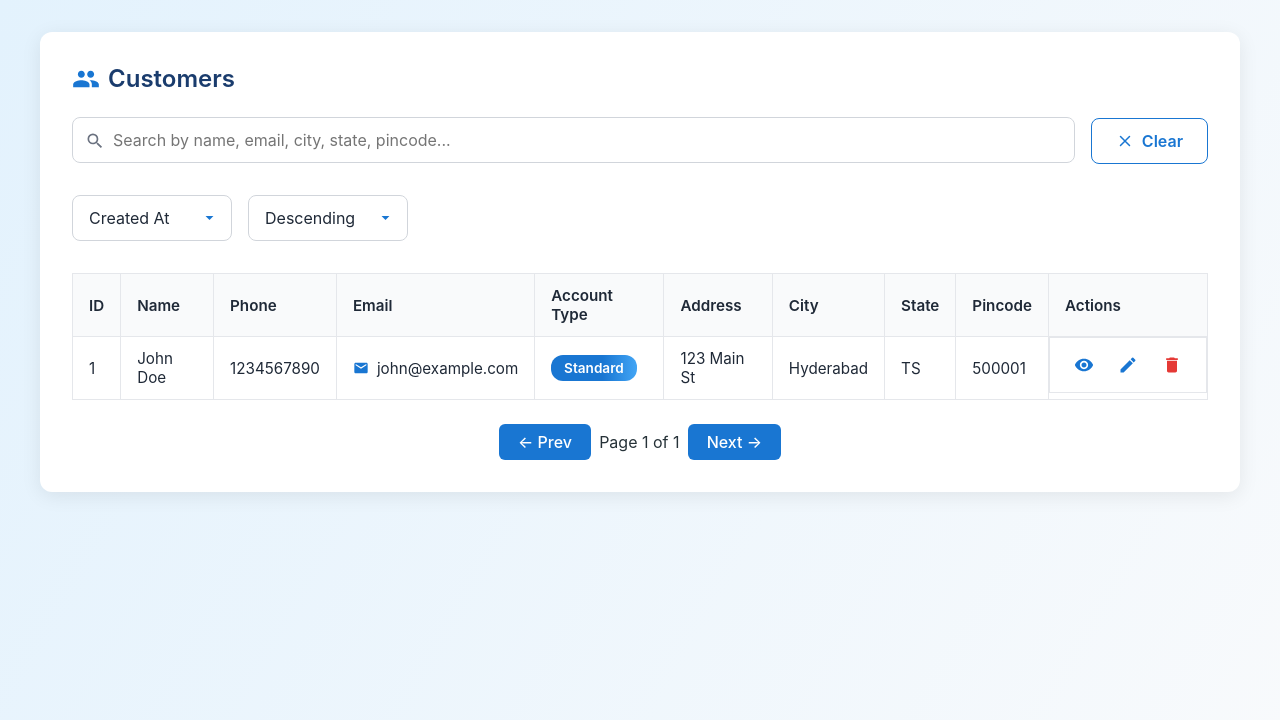
Test: CustomerList Component › shows delete modal and deletes customer successfully
Step 1. Click the button named "Delete customer 1" → point(1172, 365), box [1154, 350, 1190, 380]
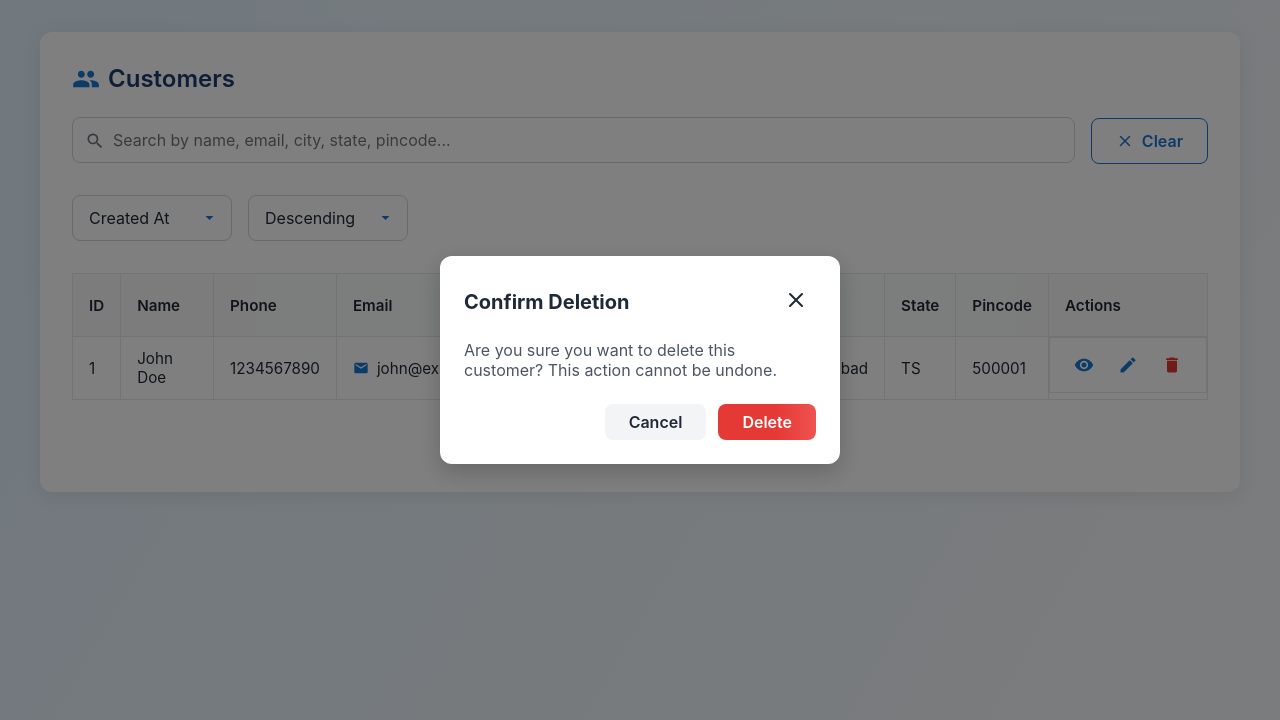
Result: the heading "Confirm Deletion" is shown at [464, 290, 630, 314]
Step 2. Click the button "Delete" → point(767, 422), box [718, 404, 816, 440]
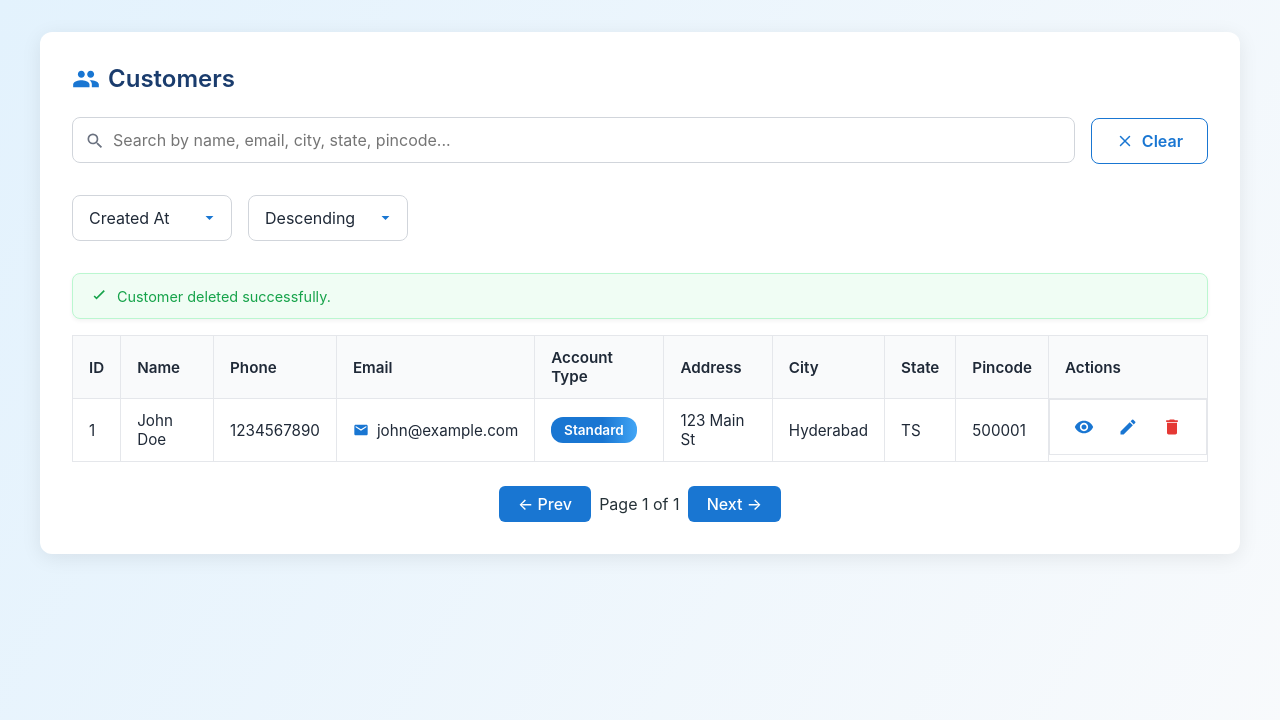
Result: the text "Customer deleted successfully." is shown at [72, 273, 1208, 319]
